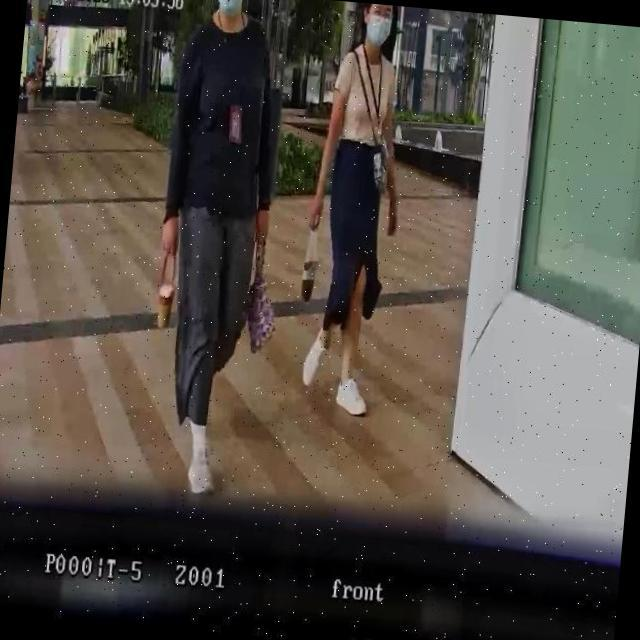person: (138, 0, 290, 501), (291, 0, 414, 417)
